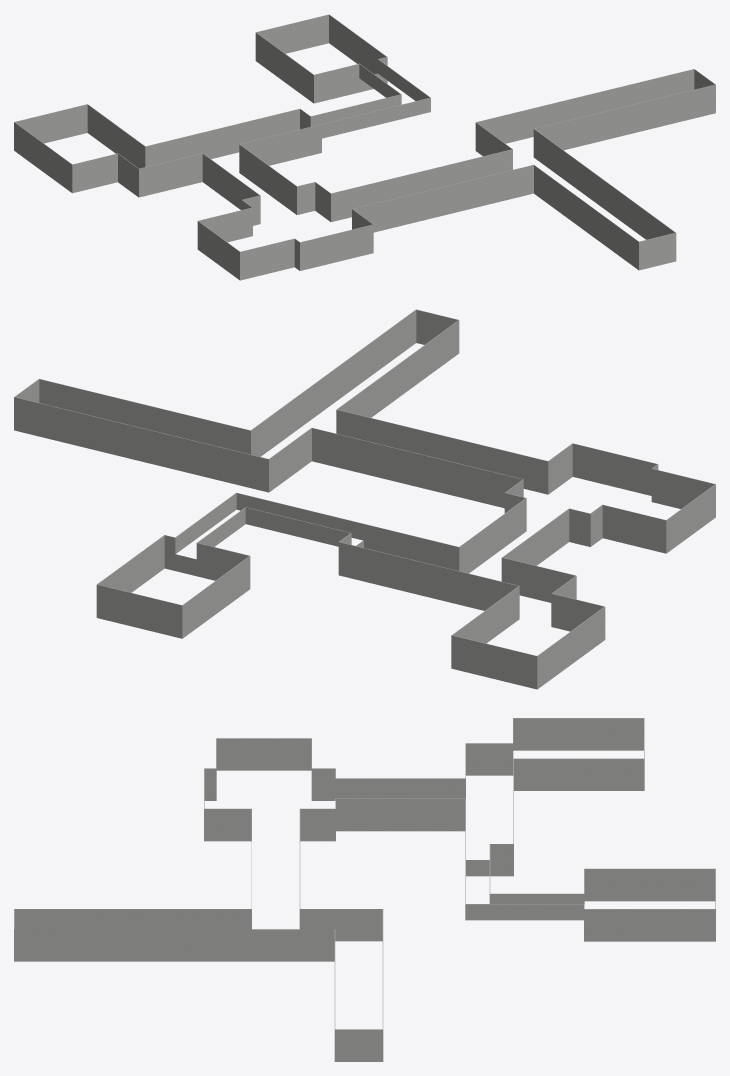
Rendered from Level1Wall.fbx.
3 views of the same model, one above another, from view 1: azimuth 30°, elevation 25°; view 2: azimuth 150°, elevation 25°; view 3: azimuth 270°, elevation 25° (orthographic). The views are drawn at different scales.
Parts seen in each view (by area): view 1: Level1Walls; view 2: Level1Walls; view 3: Level1Walls.
Boxes of the visible parts, x1=… form: Level1Walls: x1=14, y1=14, x2=715, y2=280; Level1Walls: x1=14, y1=309, x2=715, y2=689; Level1Walls: x1=14, y1=718, x2=715, y2=1061.
Size of the model in its own units: 62.05 by 3 by 59.1.
